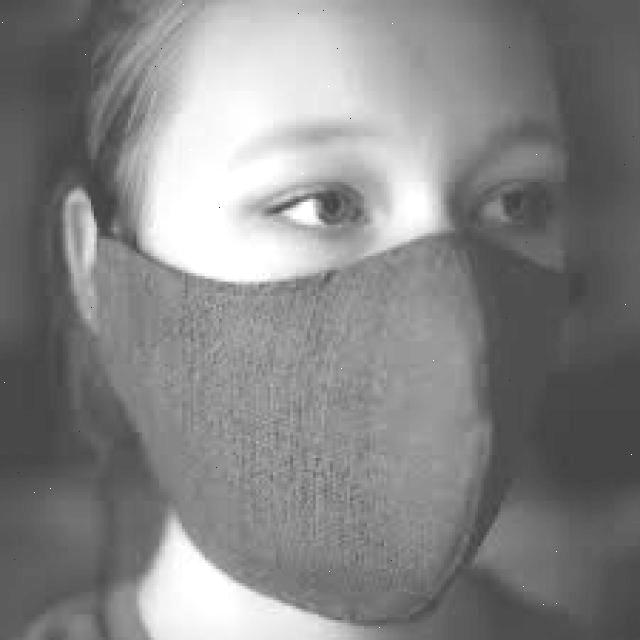fake: (72, 230, 618, 640)
real: (139, 2, 575, 640)
